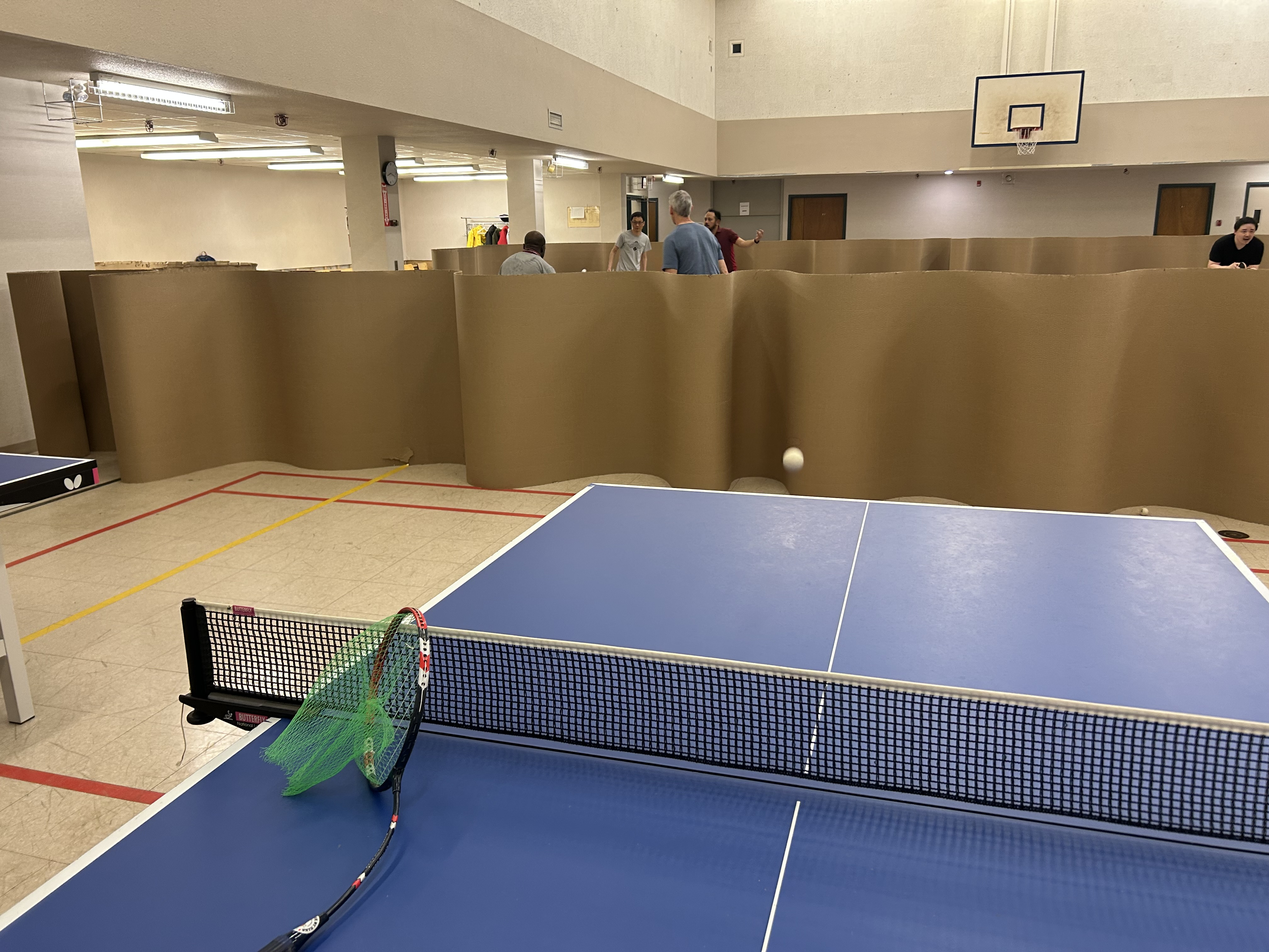Ball: (781, 441, 811, 475)
